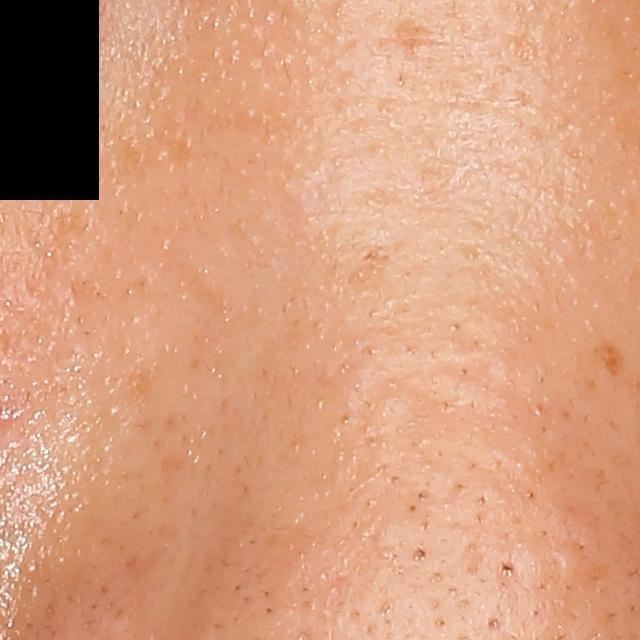comedo: (408, 542, 432, 565)
melasma: (595, 334, 627, 381)
